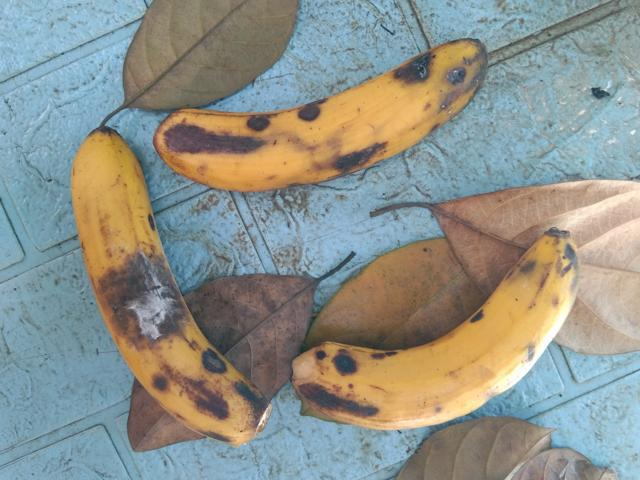overripe: (281, 222, 577, 479), (55, 118, 260, 462), (128, 33, 513, 203)
rotten: (71, 234, 221, 369)
